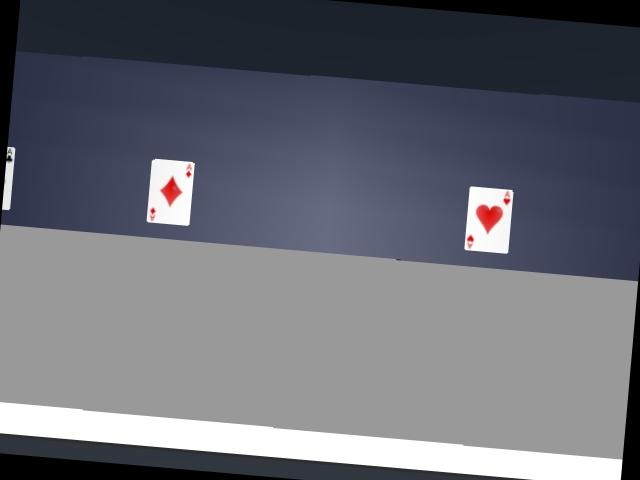diamond: (147, 159, 194, 225)
heart: (464, 186, 512, 253)
